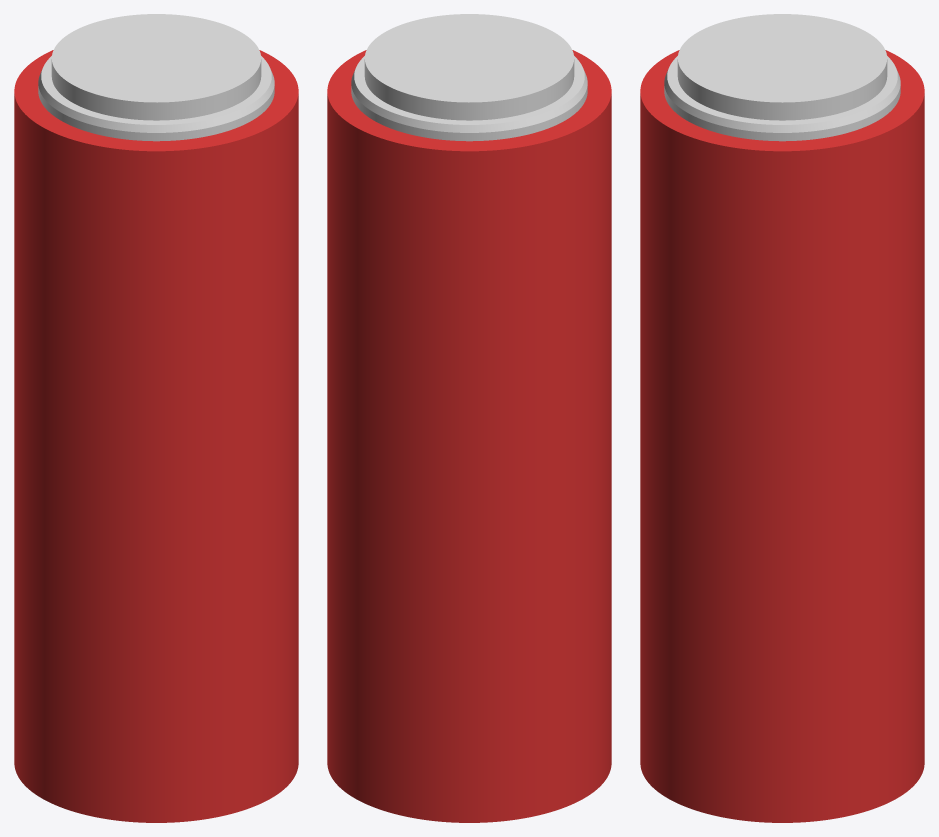
File: Pin.fbx
3 renders of one model, left to right at view 1: azimuth 30°, elevation 25°; view 2: azimuth 150°, elevation 25°; view 3: azimuth 270°, elevation 25°, orthographic.
Parts seen in each view (by area): view 1: Cylinder; view 2: Cylinder; view 3: Cylinder.
Boxes of the visible parts, x1,y1,x2,y2 form: Cylinder: (14,14,298,822); Cylinder: (327,14,611,822); Cylinder: (640,14,924,822).
Bounding box in the file's own units: 200 × 547 × 200.
